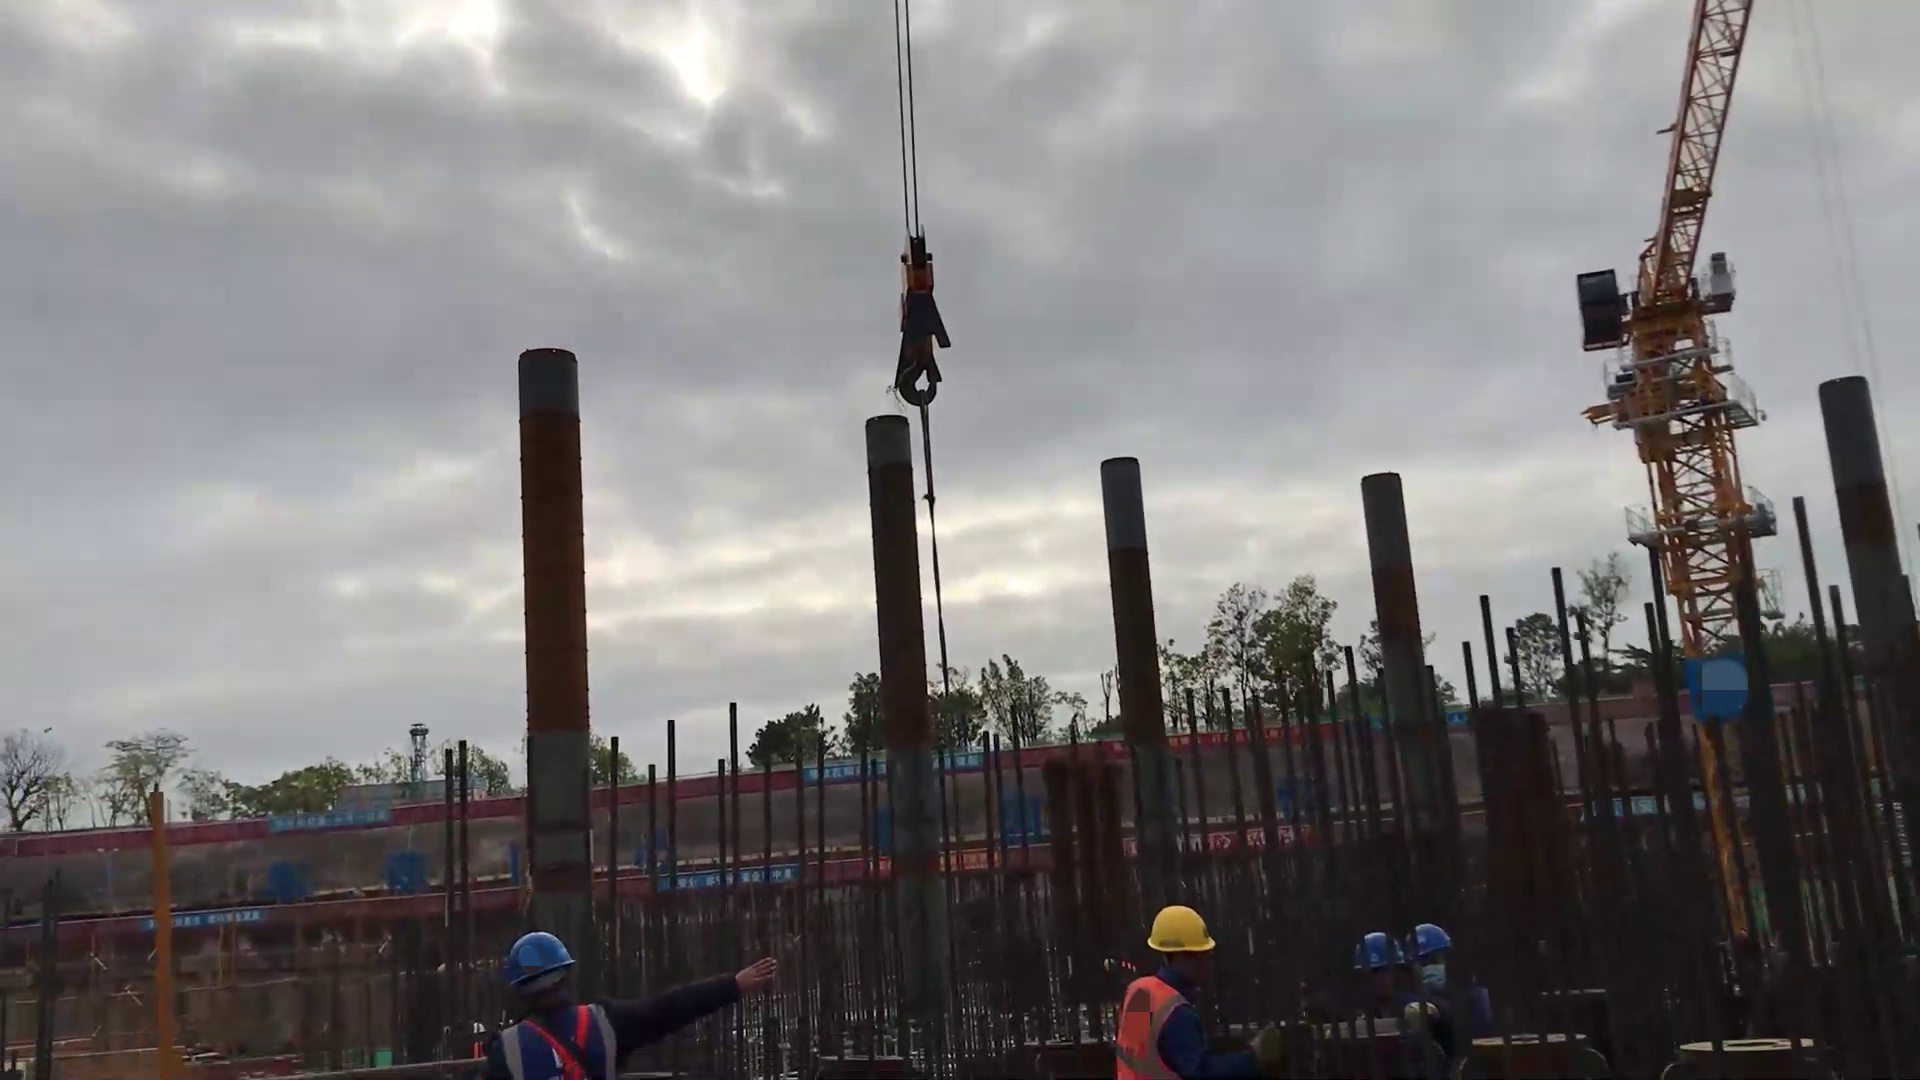helmet: (1357, 918, 1463, 979), (496, 928, 579, 983), (1143, 902, 1222, 957)
hook: (873, 225, 960, 414)
person: (485, 927, 786, 1080), (1112, 905, 1310, 1080), (1342, 920, 1505, 1065)
vest: (488, 996, 620, 1080), (1111, 963, 1184, 1080)
